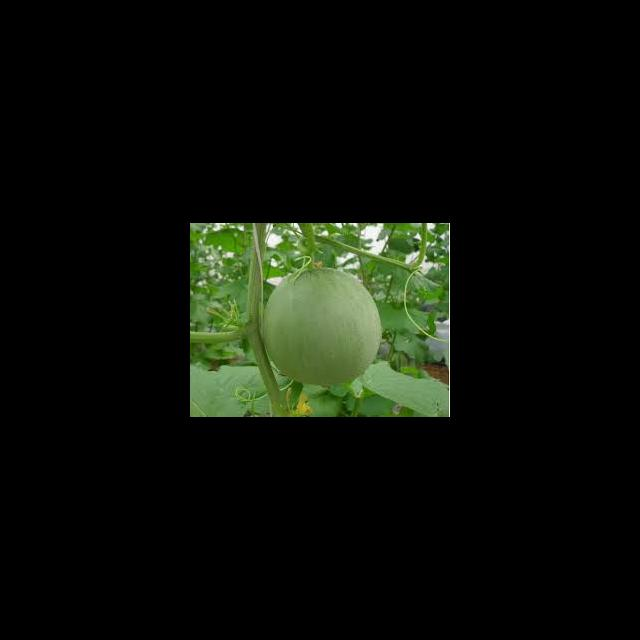Hami Melon: (264, 266, 383, 383)
